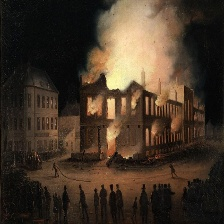smoke: (73, 2, 185, 98)
